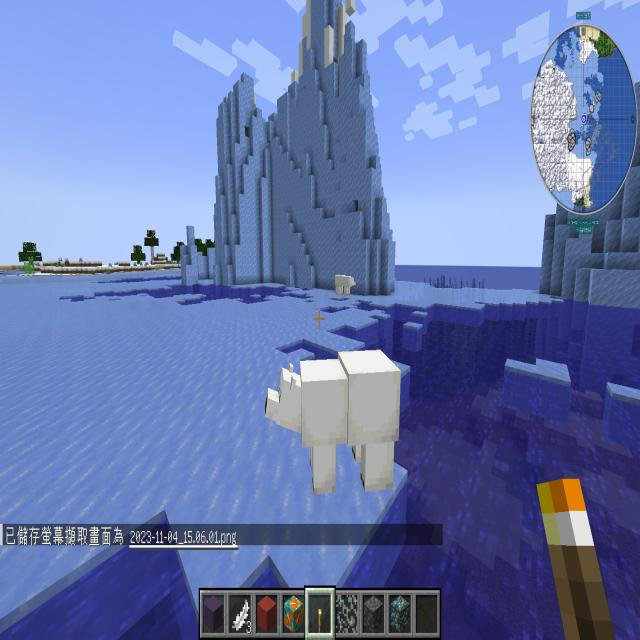Polar Bear: (257, 317, 419, 507), (327, 256, 361, 310)
